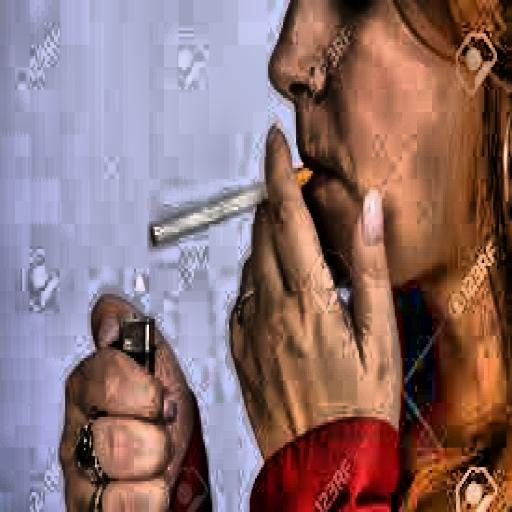fire: (121, 249, 158, 313)
